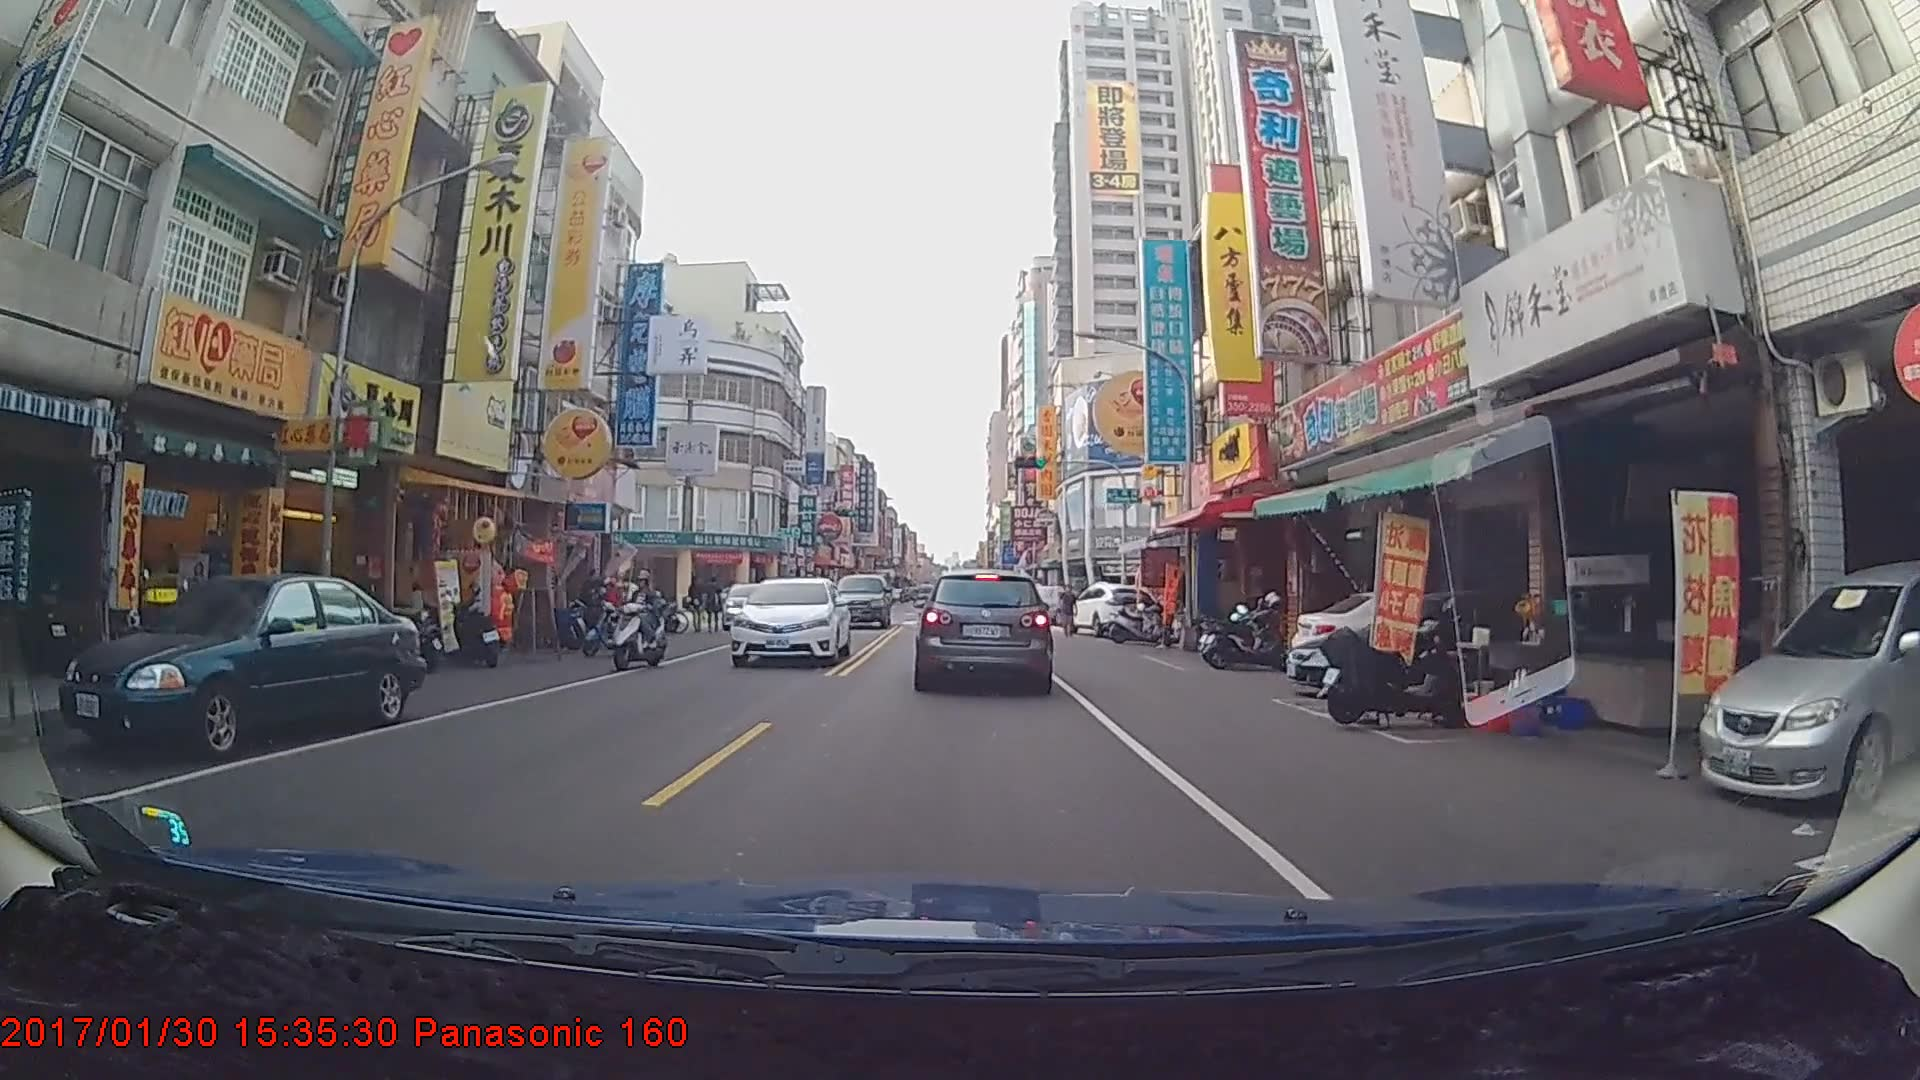pedestrian: (1058, 584, 1079, 639)
rider: (610, 566, 675, 675)
vehicle: (55, 570, 422, 763), (1695, 559, 1920, 817), (915, 568, 1051, 691), (729, 576, 852, 667), (1064, 581, 1161, 639), (829, 572, 893, 630), (719, 582, 778, 628)
